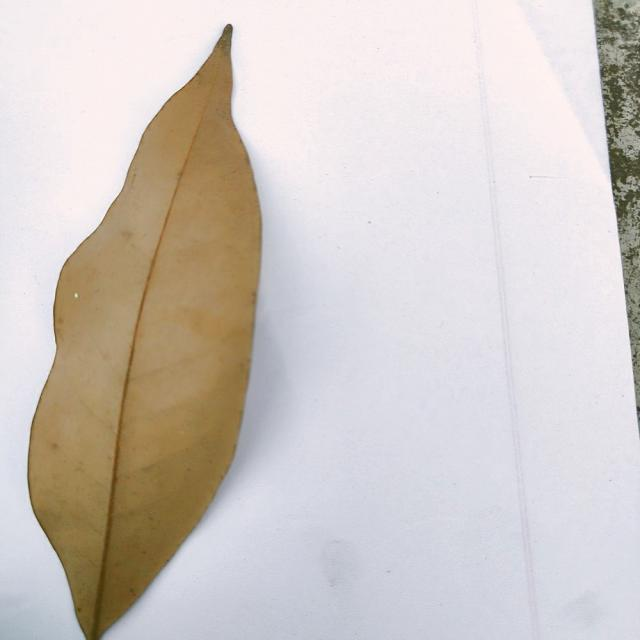Dry_Leaf-Lychee: (27, 26, 263, 639)
